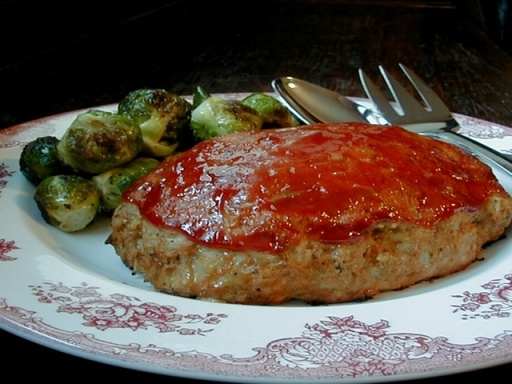background: (14, 50, 409, 183)
